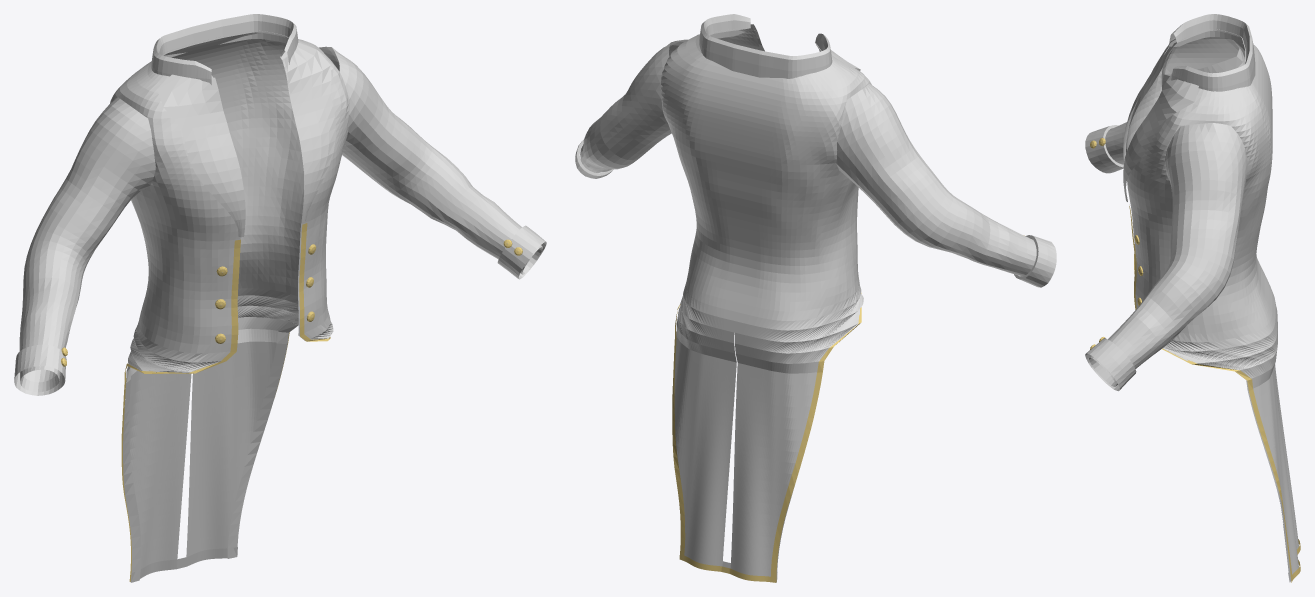
File: ewb_tailcoat_open.glb
3 renders of one model, left to right at view 1: azimuth 30°, elevation 25°; view 2: azimuth 150°, elevation 25°; view 3: azimuth 270°, elevation 25°, orthographic. The views are drawn at different scales.
Parts seen in each view (by area): view 1: ewb_tailcoat_open; view 2: ewb_tailcoat_open; view 3: ewb_tailcoat_open.
Boxes of the visible parts, <box> form: ewb_tailcoat_open: <box>14,14,546,582</box>; ewb_tailcoat_open: <box>575,14,1056,582</box>; ewb_tailcoat_open: <box>1085,14,1300,582</box>.
Size of the model in its own units: 1.13 by 1.15 by 0.4356.
